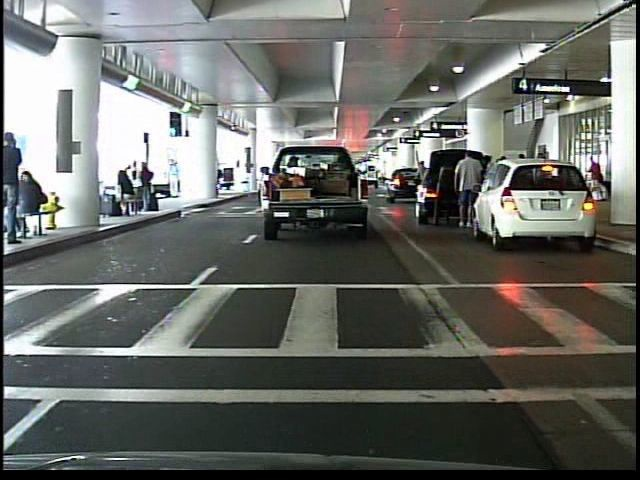person: (5, 131, 29, 248), (453, 146, 484, 233), (428, 153, 459, 230), (582, 153, 607, 204), (412, 157, 430, 211), (167, 157, 185, 200)
